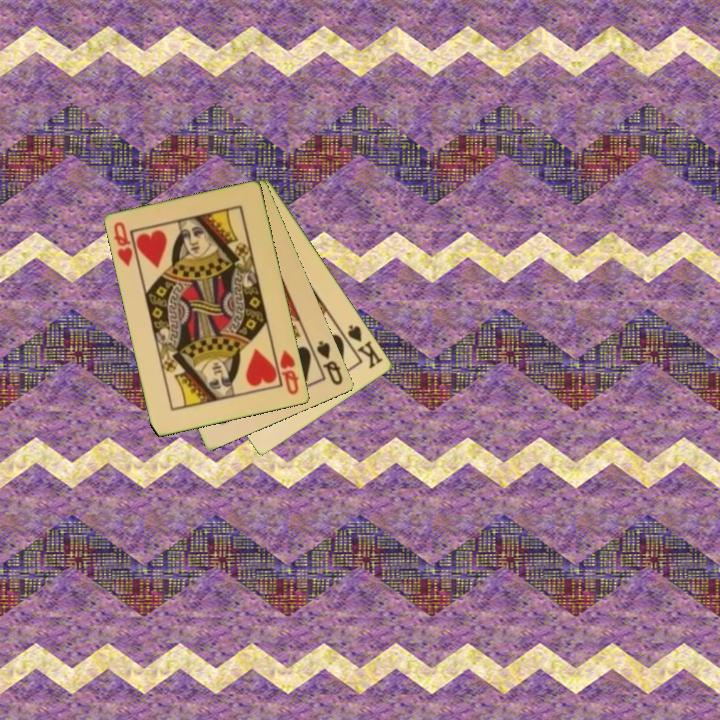Ks: (345, 321, 386, 372)
Qh: (277, 346, 302, 398), (111, 218, 136, 270)
Qs: (313, 337, 346, 388)
